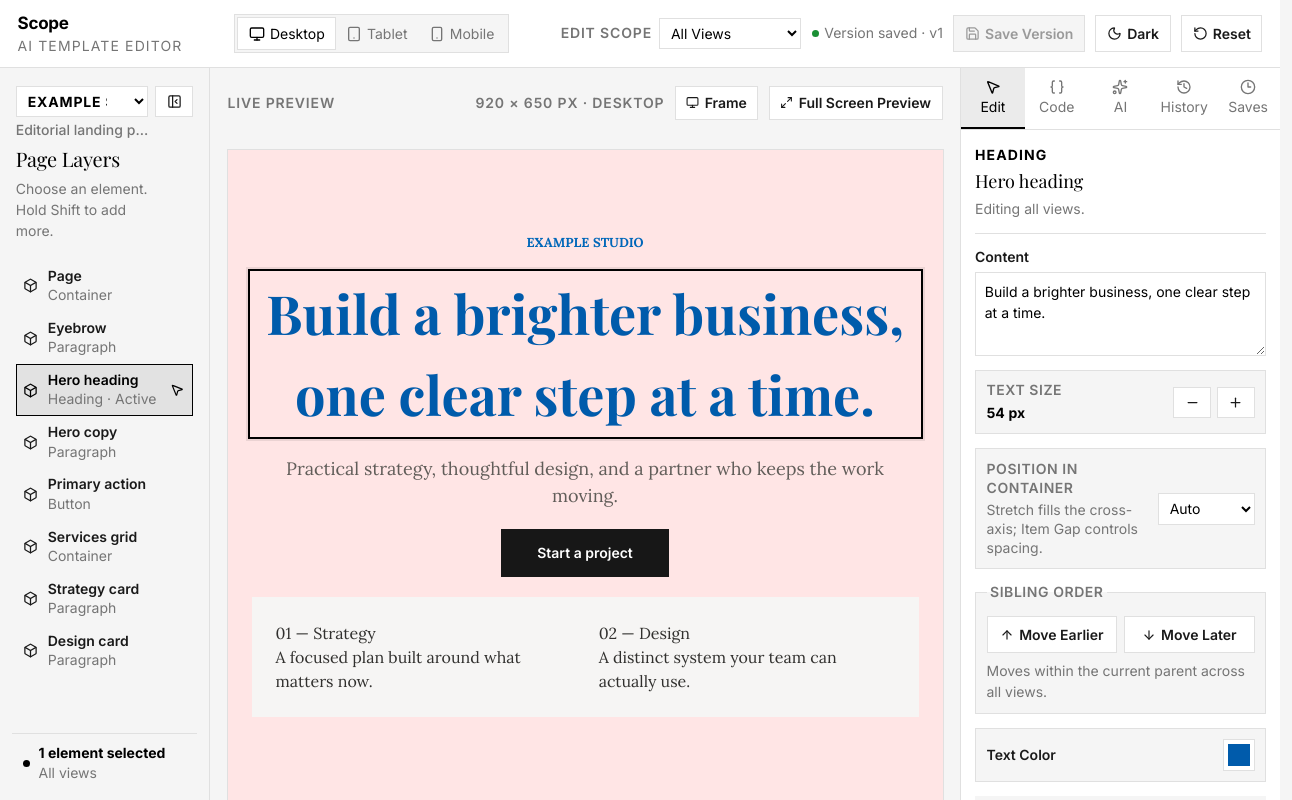
Test: switches to the feature-focused template without creating an edit revision
Select "Launch Dashboard" in the dropdown named "Template". click: (82, 101)
box: [16,86,148,117]
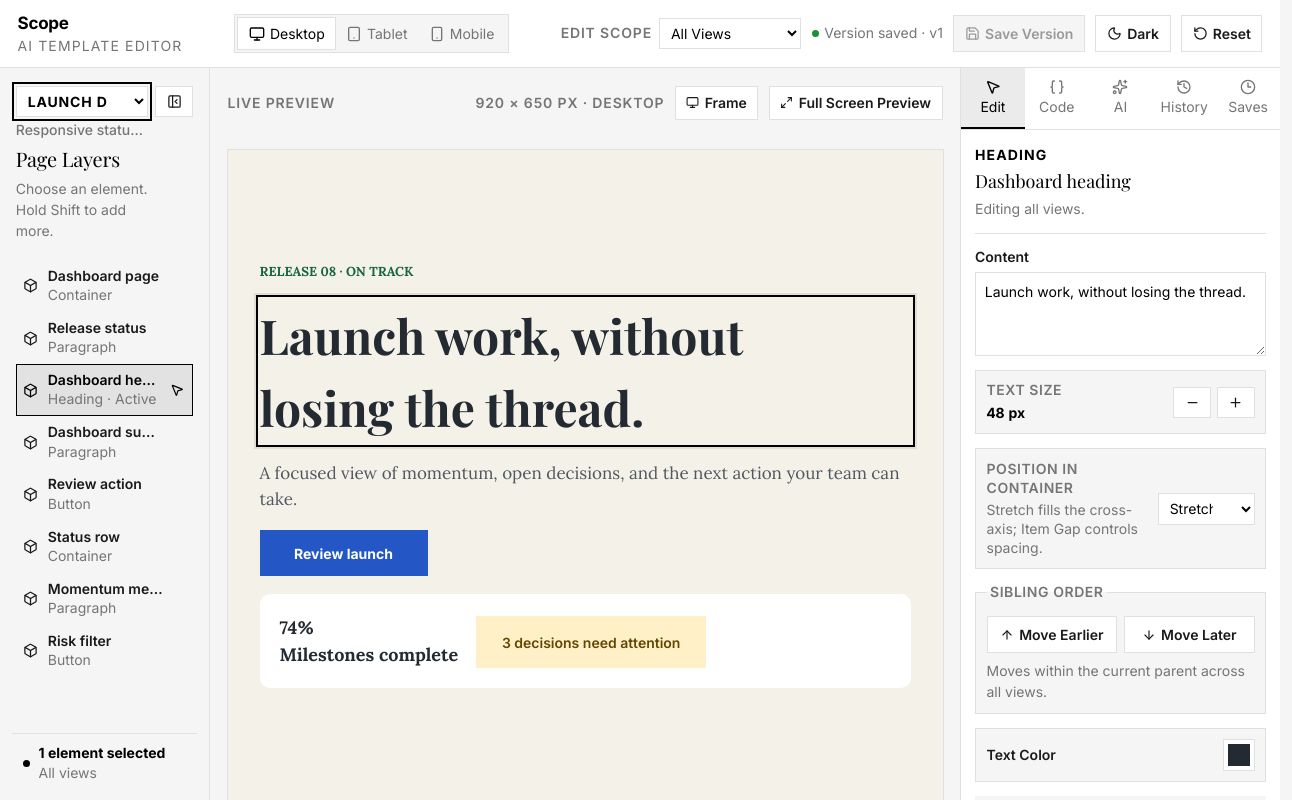
Expected: the text "Version saved · v1" is shown, [812,24,943,43]
Expected: the text "Responsive status layout" is shown, [16,120,182,138]
Expected: the option with test id "element-headline" reads "Launch work, without losing the thread.", [260,303,743,439]
